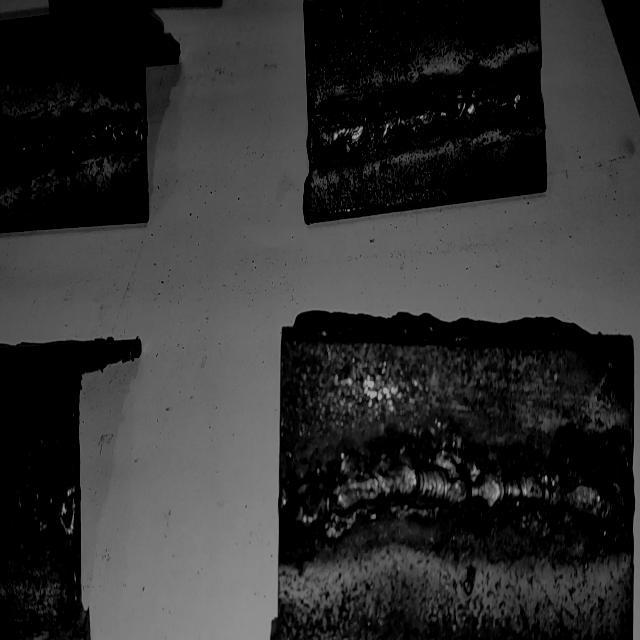Defect: (278, 445, 348, 558), (0, 473, 80, 564)
Welding Line: (282, 458, 628, 536), (312, 66, 539, 152), (3, 110, 143, 164)
Workpiece: (272, 335, 640, 640), (304, 0, 546, 222), (0, 4, 155, 230), (0, 351, 75, 640)
